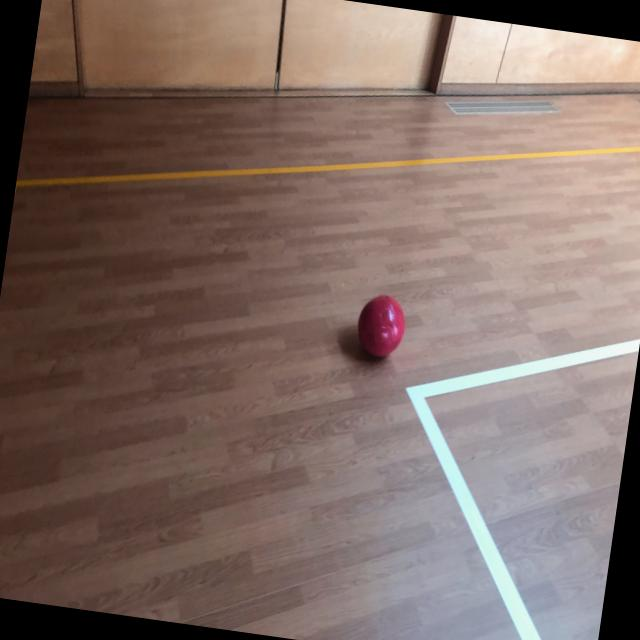red_ball: (356, 291, 409, 359)
